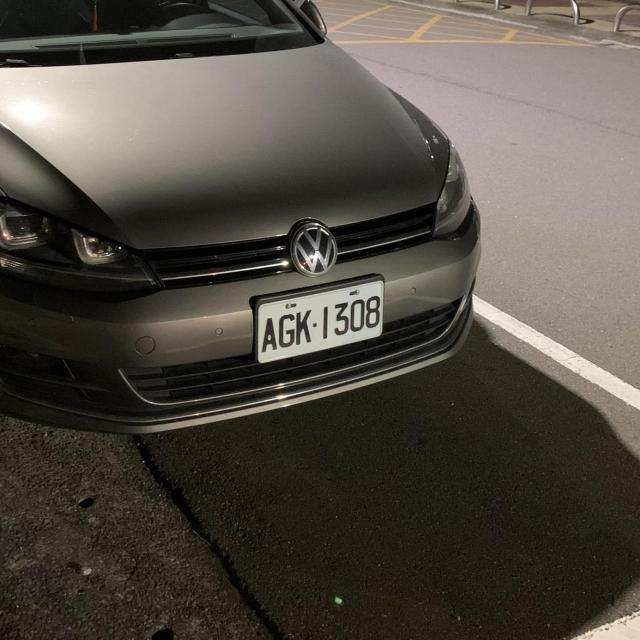W: (246, 276, 396, 366)
